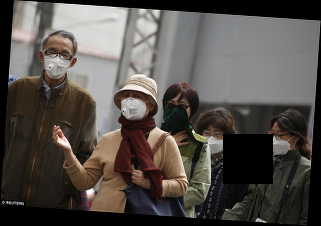with_mask: (41, 46, 73, 80), (121, 91, 150, 121), (200, 125, 228, 156), (162, 98, 192, 126), (267, 128, 296, 155)
